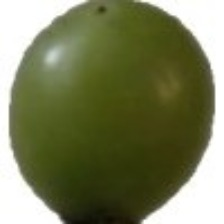grapes: (11, 28, 188, 224)
